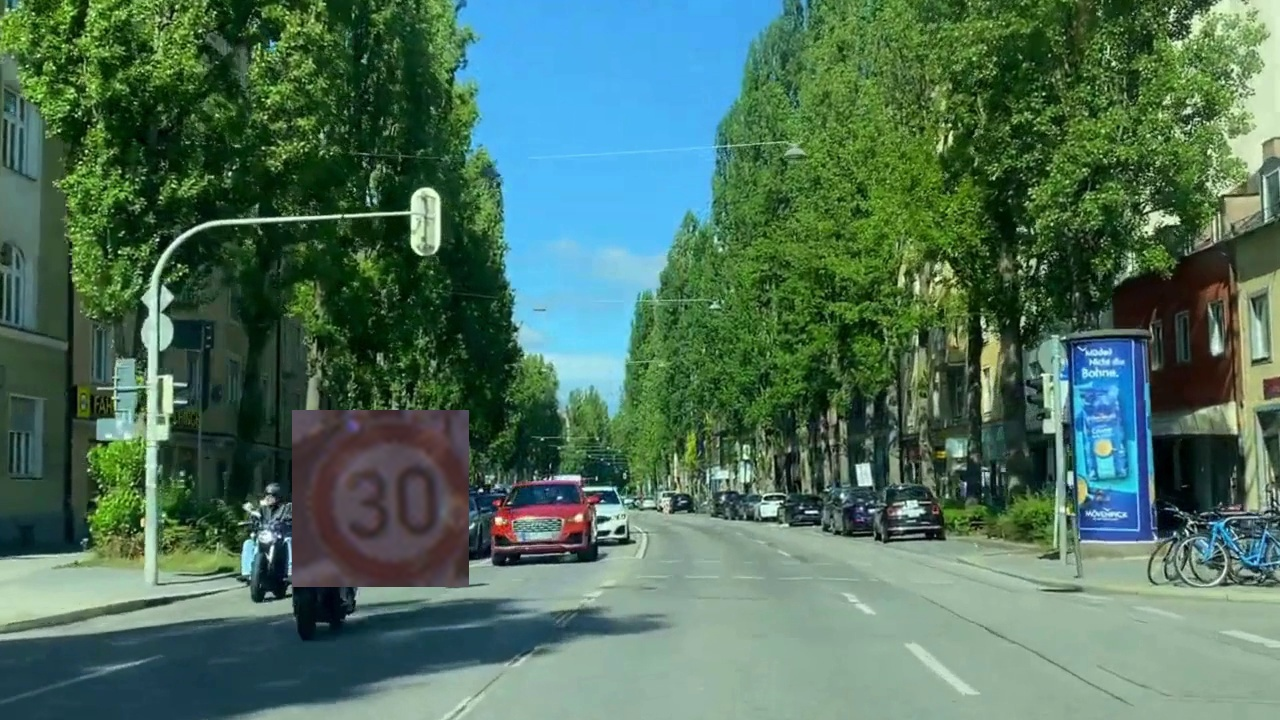Speed 30: (292, 410, 469, 587)
